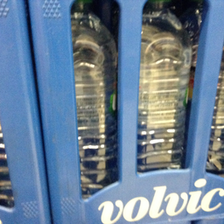water: (138, 1, 192, 170), (68, 1, 116, 189)
